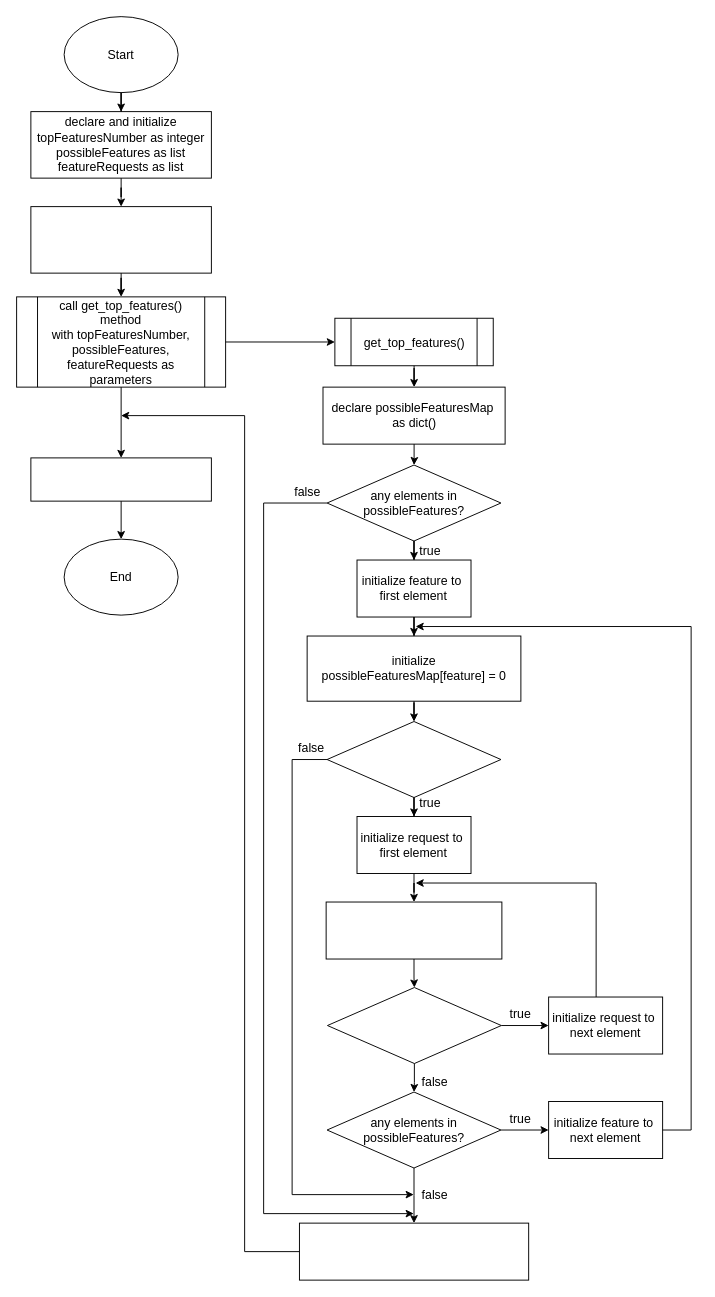
The diagram is 715 pixels wide and 1297 high, and some of its shapes have lost their labels. Each missing label, with the centre of its shape:
any elements in featureRequests?: (x=413, y=759)
declare and initialize jar as Features object: (x=120, y=239)
elements remaining in featureRequests?: (x=414, y=1025)
increment possibleFeaturesMap[feature] by the number of occurrences in feature: (x=413, y=930)
print result: (x=120, y=479)
return most_common(topFeaturesNumber): (x=413, y=1251)
